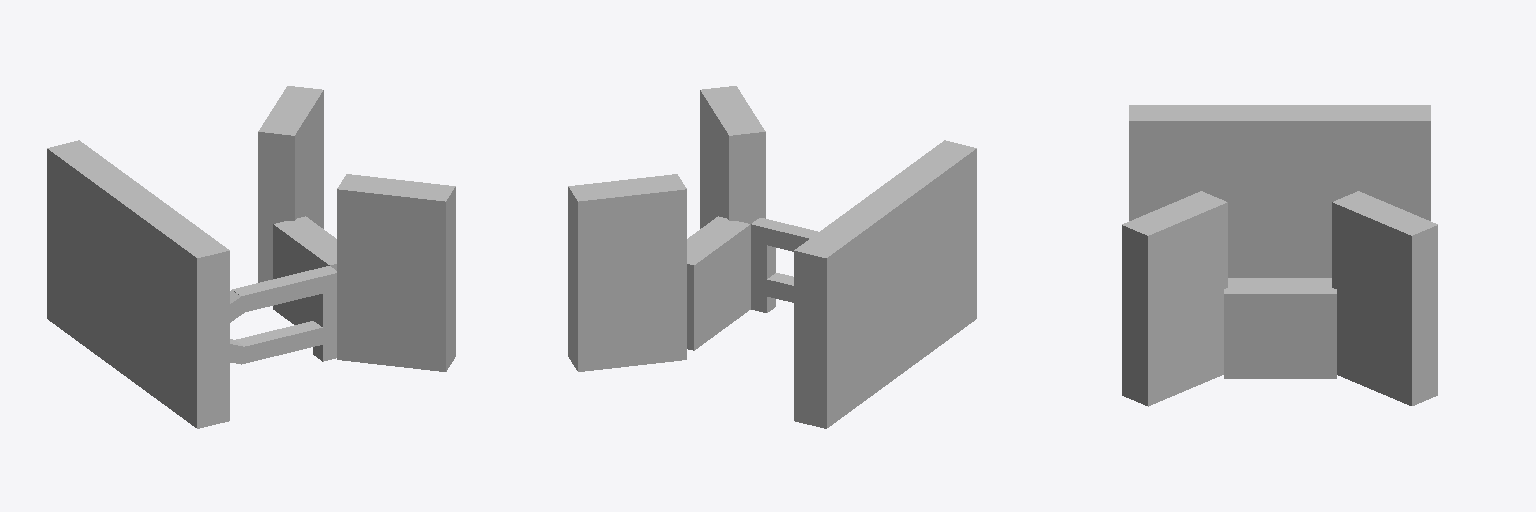
The model's file is entrance.obj.
3 renders of one model, left to right at view 1: azimuth 30°, elevation 25°; view 2: azimuth 150°, elevation 25°; view 3: azimuth 270°, elevation 25°, orthographic.
Visible parts, largest first — view 1: cube.002, cube.001, cube.000, cube, cube.004, cube.005, cube.003; view 2: cube.002, cube.000, cube.001, cube, cube.003, cube.004, cube.005; view 3: cube.002, cube.001, cube.000, cube.
Part boxes in pixels (x1,y1,x2,y2): cube.002: (47,140,229,428); cube.001: (337,174,455,371); cube.000: (258,86,323,282); cube: (273,216,336,324); cube.004: (232,270,322,312); cube.005: (236,321,322,364); cube.003: (313,266,336,361); cube.002: (794,140,976,428); cube.000: (568,174,686,371); cube.001: (700,86,765,228); cube: (687,216,750,350); cube.003: (751,218,775,312); cube.004: (767,221,818,251); cube.005: (767,273,793,302); cube.002: (1129,105,1430,277); cube.001: (1122,191,1227,406); cube.000: (1332,191,1437,405); cube: (1224,278,1336,378).
Size of the model in its own units: 1.03 by 0.625 by 1.05.